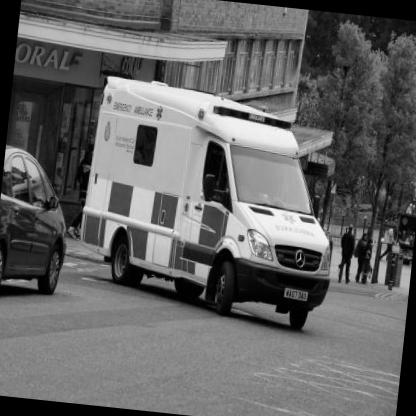ambulance: (50, 71, 364, 343)
